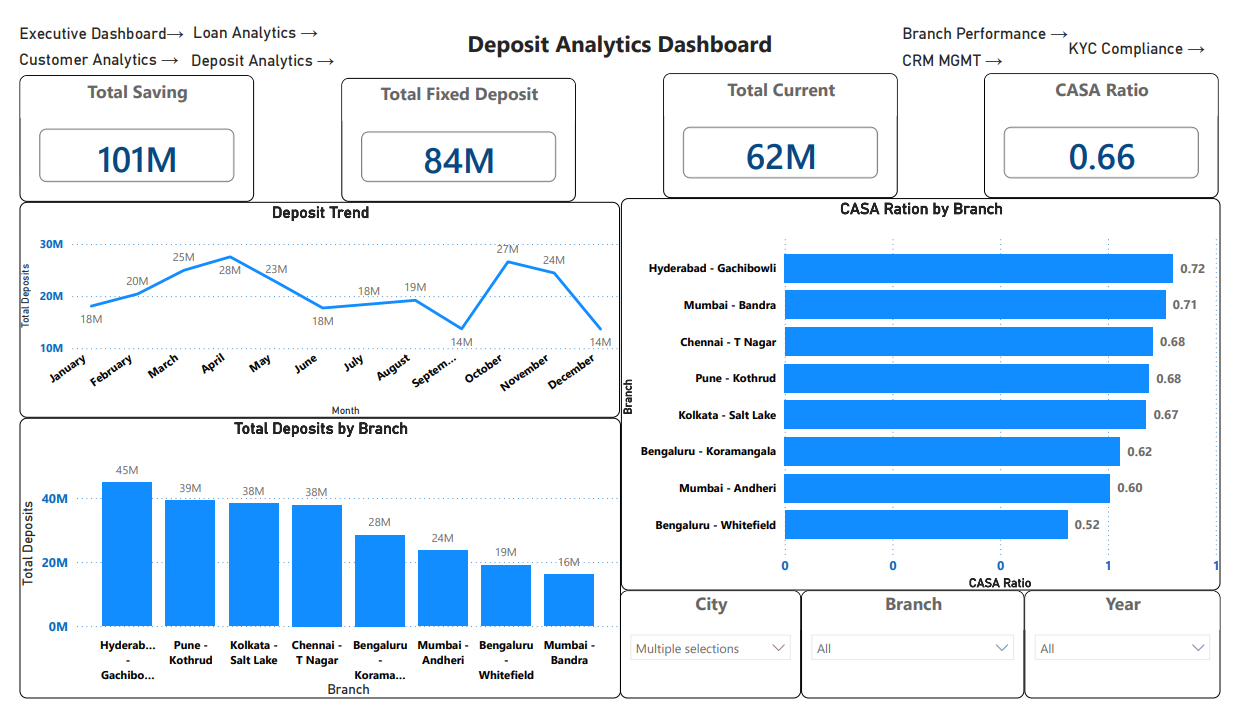

The page's visual inventory and layout, read from the dashboard file:
{"tool":"powerbi","page":{"name":"Deposit Analytics","canvas":[1280,720],"ordinal":3},"visuals":[{"type":"textbox","box":[393,0,494,56.3],"z":0},{"type":"cardVisual","title":"Total Saving","fields":{"Data":["Deposit Mesures.Total Savings"]},"box":[0,56.3,250.2,134.9],"z":1000},{"type":"cardVisual","title":"Total Current","fields":{"Data":["Deposit Mesures.Total Current"]},"box":[685.7,53.8,250,133],"z":2000},{"type":"cardVisual","title":"Total Fixed Deposit","fields":{"Data":["Deposit Mesures.Total Fixed Deposit"]},"box":[343,58.7,250,132],"z":3000},{"type":"cardVisual","title":"CASA Ratio","fields":{"Data":["Mesures.CASA Ratio"]},"box":[1028.4,53.8,250,133],"z":4000},{"type":"lineChart","title":"Deposit Trend","fields":{"Y":["Mesures.Total Deposits"],"Category":["DimDate.Date.Variation.Date Hierarchy.Month"]},"box":[0,190.8,639.5,229.9],"z":5000},{"type":"clusteredBarChart","title":"CASA Ratio by Branch","fields":{"Category":["Customers.Branch"],"Y":["Mesures.CASA Ratio"]},"box":[640.8,187.1,639.5,418.2],"z":6000},{"type":"clusteredColumnChart","fields":{"Category":["Customers.Branch"],"Y":["Mesures.Total Deposits"]},"box":[0,420.7,640.8,299.6],"z":7000},{"type":"slicer","title":"Branch","fields":{"Values":["Customers.Branch"]},"box":[832.7,605.3,238.5,114.9],"z":8000},{"type":"slicer","title":"Year","fields":{"Values":["DimDate.Year"]},"box":[1071.2,605.3,209.1,114.9],"z":9000},{"type":"slicer","title":"City","fields":{"Values":["Customers.City"]},"box":[639.5,605.3,193.2,114.9],"z":10000},{"type":"actionButton","title":"Customer Analytics →","box":[0,27.7,177.3,29],"z":11000},{"type":"actionButton","title":"Loan Analytics →","box":[184.6,0,177.3,27.7],"z":12000},{"type":"actionButton","title":"Deposit Analytics →","box":[183.4,29,177.3,29],"z":13000},{"type":"actionButton","title":"Branch Performance →","box":[941,1.2,177.3,29],"z":14000},{"type":"actionButton","title":"CRM MGMT →","box":[941,29,160.5,29],"z":15000},{"type":"actionButton","title":"KYC Compliance →","box":[1118.4,15.7,155.6,29],"z":16000},{"type":"actionButton","title":"Executive Dashboard→","box":[0,1.2,177.3,29],"z":17000}]}

Visuals, with their boxes in screenshot pixels (x1, y1, x2, y2), scaled from the page's 1280x720 canvas onto the 1241x718 screenshot:
textbox: [x1=381, y1=0, x2=860, y2=56]
"Total Saving" cardVisual: [x1=0, y1=56, x2=243, y2=191]
"Total Current" cardVisual: [x1=665, y1=54, x2=907, y2=186]
"Total Fixed Deposit" cardVisual: [x1=333, y1=59, x2=575, y2=190]
"CASA Ratio" cardVisual: [x1=997, y1=54, x2=1239, y2=186]
"Deposit Trend" lineChart: [x1=0, y1=190, x2=620, y2=420]
"CASA Ratio by Branch" clusteredBarChart: [x1=621, y1=187, x2=1240, y2=604]
clusteredColumnChart - Customers.Branch x Mesures.Total Deposits: [x1=0, y1=420, x2=621, y2=717]
"Branch" slicer: [x1=807, y1=604, x2=1039, y2=717]
"Year" slicer: [x1=1039, y1=604, x2=1240, y2=717]
"City" slicer: [x1=620, y1=604, x2=807, y2=717]
"Customer Analytics →" actionButton: [x1=0, y1=28, x2=172, y2=57]
"Loan Analytics →" actionButton: [x1=179, y1=0, x2=351, y2=28]
"Deposit Analytics →" actionButton: [x1=178, y1=29, x2=350, y2=58]
"Branch Performance →" actionButton: [x1=912, y1=1, x2=1084, y2=30]
"CRM MGMT →" actionButton: [x1=912, y1=29, x2=1068, y2=58]
"KYC Compliance →" actionButton: [x1=1084, y1=16, x2=1235, y2=45]
"Executive Dashboard→" actionButton: [x1=0, y1=1, x2=172, y2=30]
